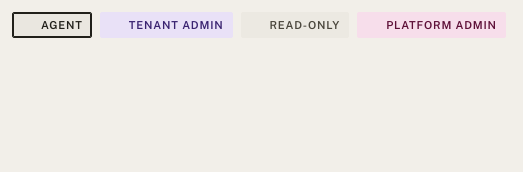
RoleSwitcher › disables all chips while a switch is in flight
Click the button "Tenant Admin" at {"x": 166, "y": 25}, box x1=100 y1=12 x2=232 y2=38
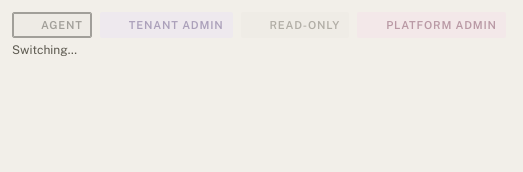
Check: the text "Switching…" is shown, box x1=12 y1=43 x2=77 y2=57
